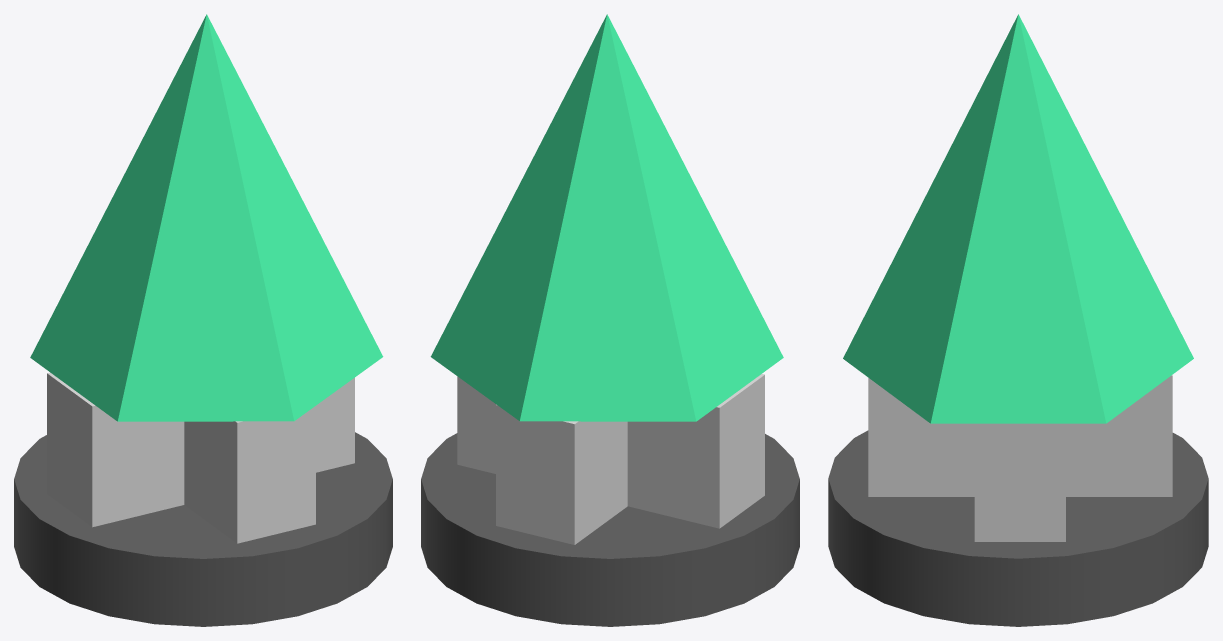
Rendered from gems_aquamarine_5.obj.
The picture shows the model from 3 angles, left to right: view 1: azimuth 30°, elevation 25°; view 2: azimuth 150°, elevation 25°; view 3: azimuth 270°, elevation 25°; orthographic projection.
Visible parts, largest first — view 1: mergedBlocks; view 2: mergedBlocks; view 3: mergedBlocks.
Boxes of the visible parts, bbox=[...] form: mergedBlocks: bbox=[14, 14, 392, 626]; mergedBlocks: bbox=[421, 14, 799, 626]; mergedBlocks: bbox=[828, 14, 1208, 626].
Bounding box in the file's own units: 1 × 1.55 × 1.
